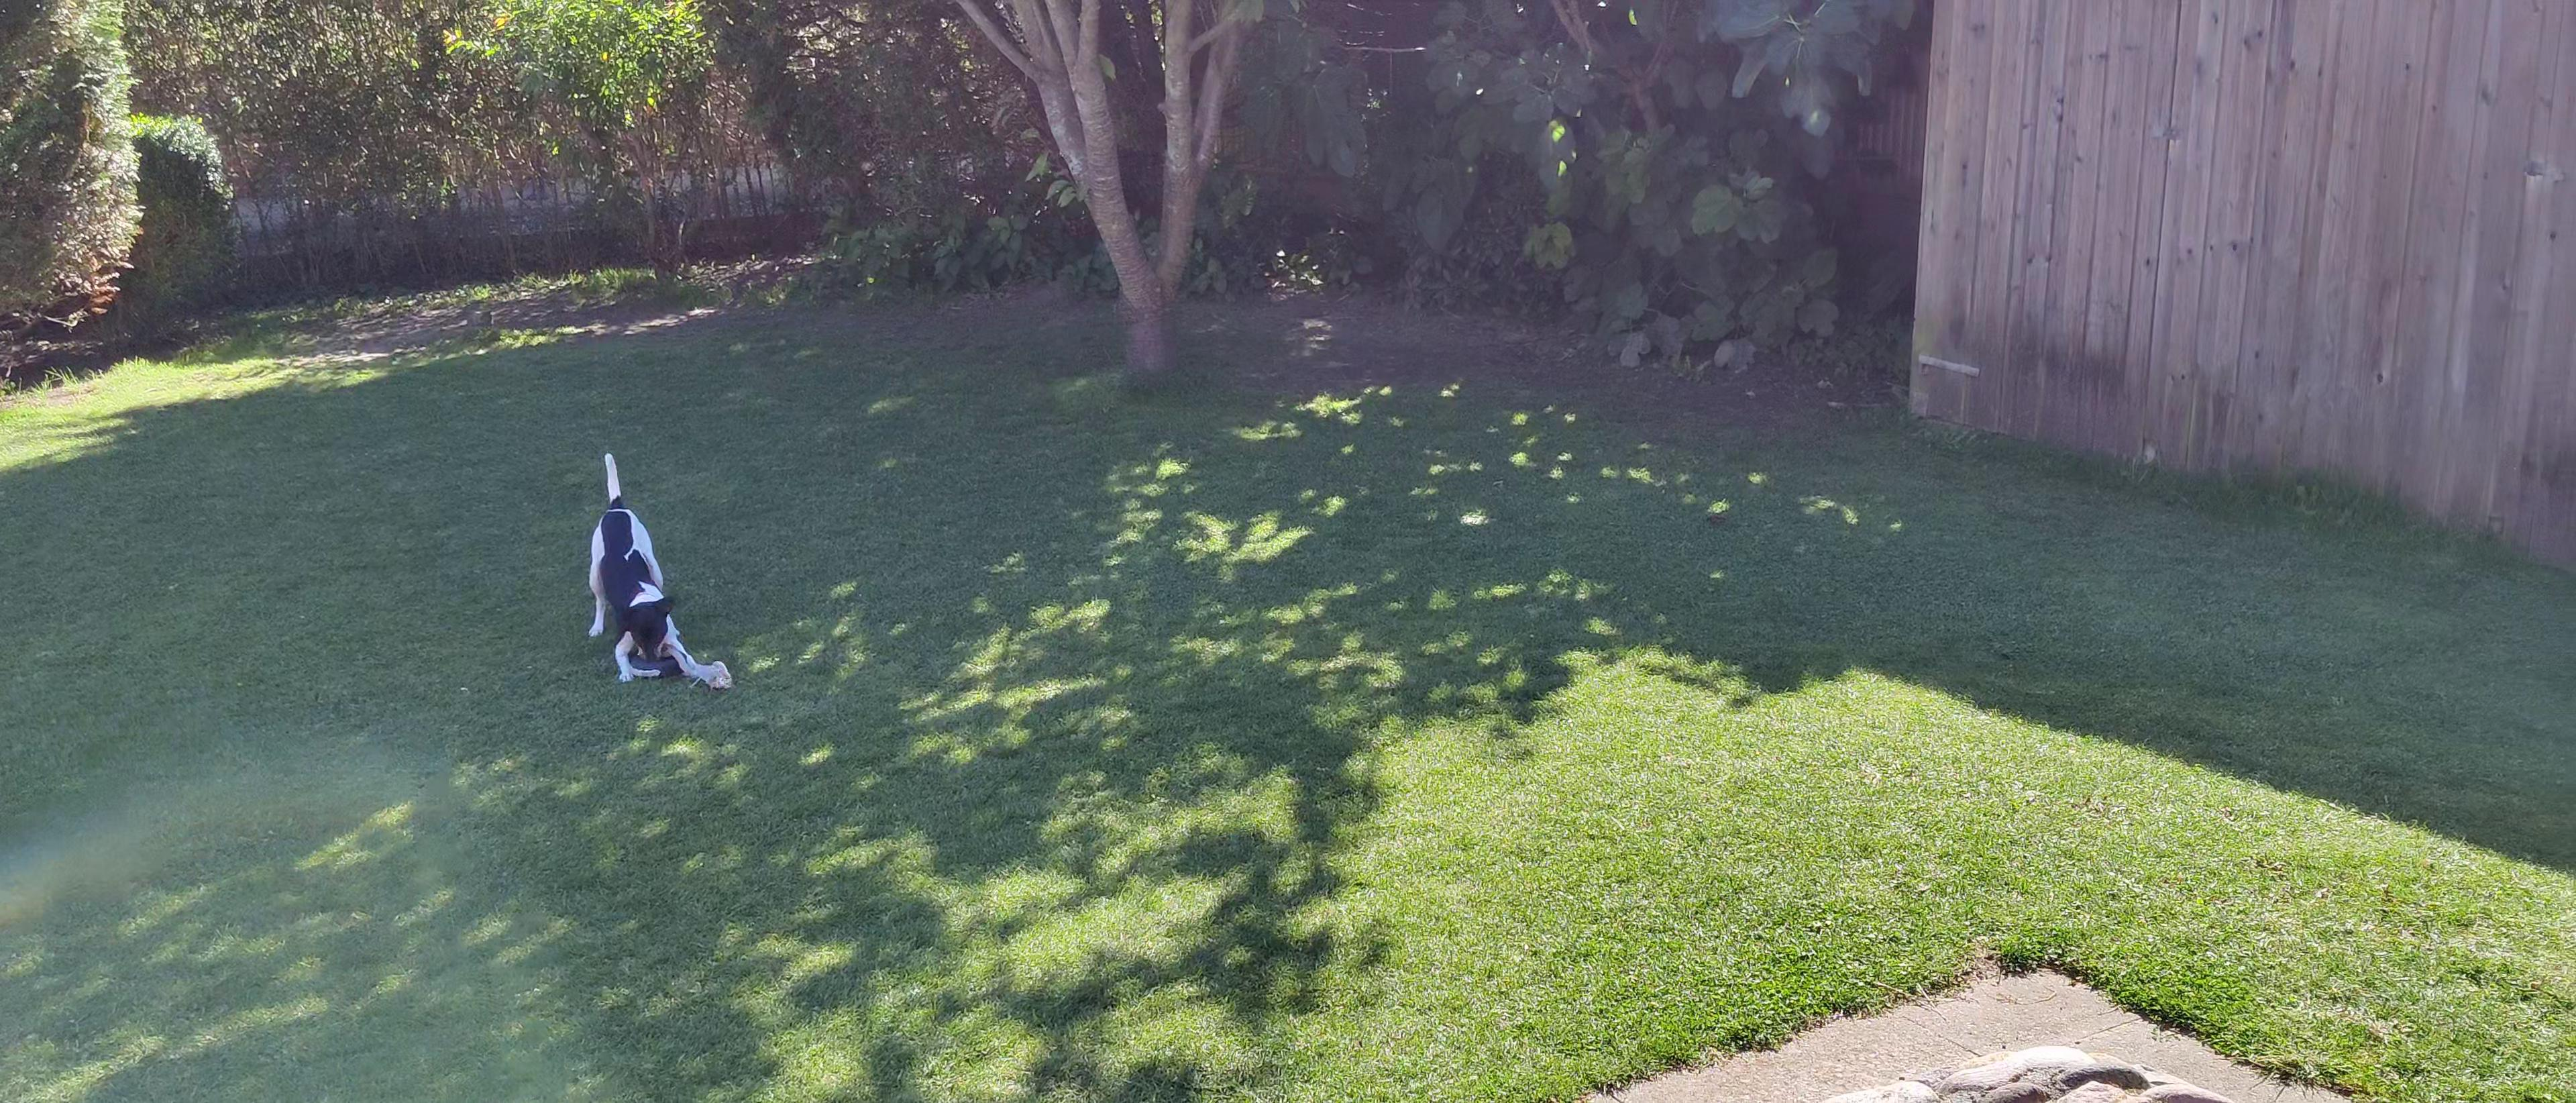Dog: (568, 445, 710, 687)
